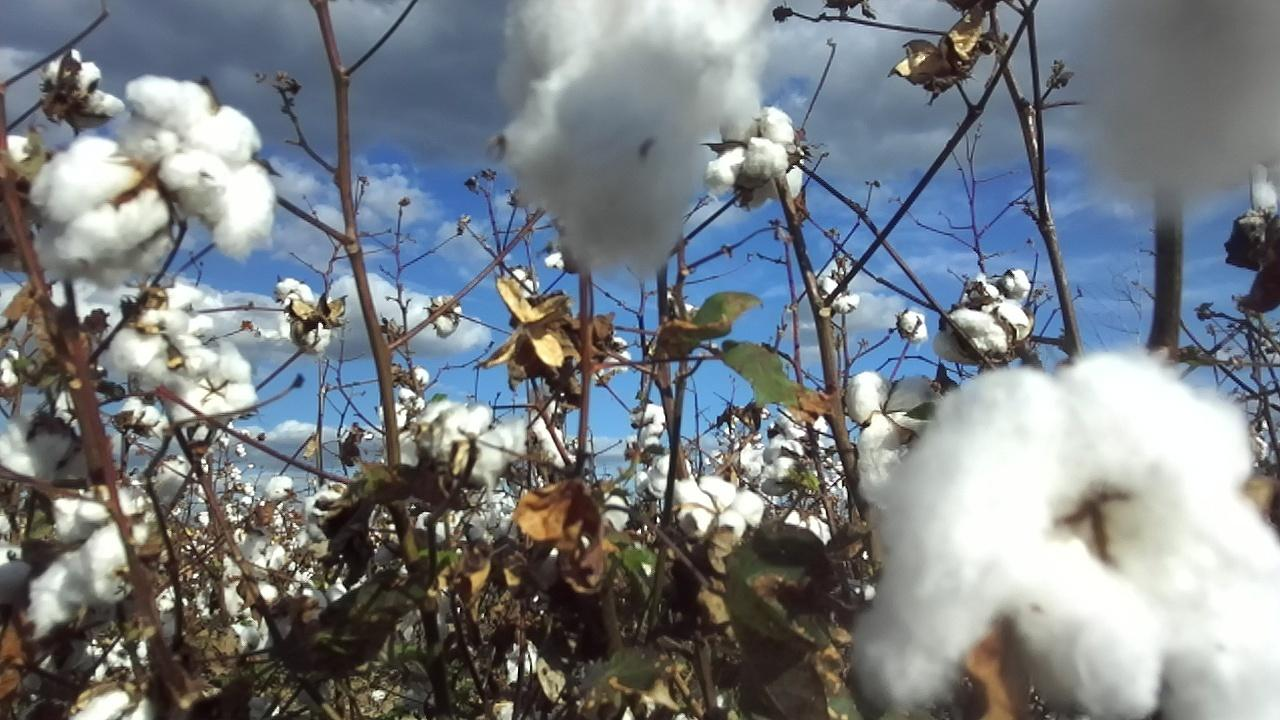cotton_ready: (859, 350, 1280, 720), (489, 0, 769, 274), (1067, 0, 1280, 222), (120, 76, 277, 260), (32, 137, 175, 287), (27, 497, 124, 638), (415, 397, 529, 479), (107, 305, 214, 391), (708, 101, 797, 195), (168, 339, 259, 424), (842, 369, 936, 449), (932, 297, 1034, 365), (0, 422, 92, 493), (43, 52, 127, 125), (672, 477, 762, 545), (69, 684, 152, 720), (0, 515, 30, 595), (0, 131, 37, 170)
